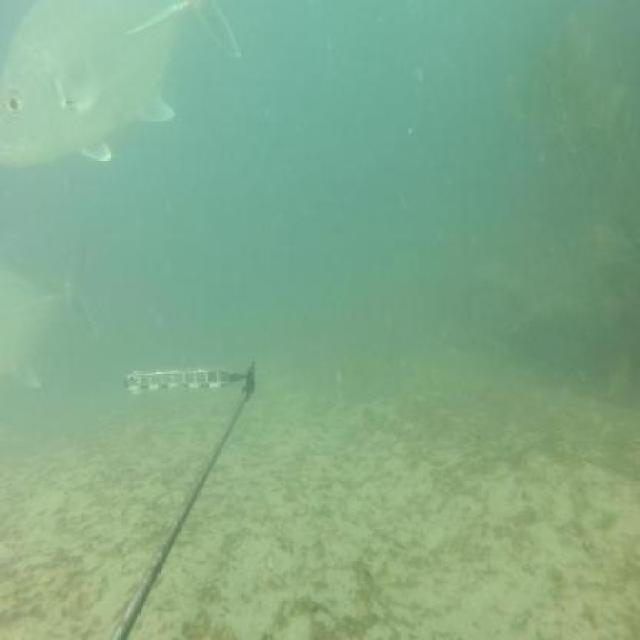Caranx: (2, 0, 242, 180), (2, 239, 104, 401)
